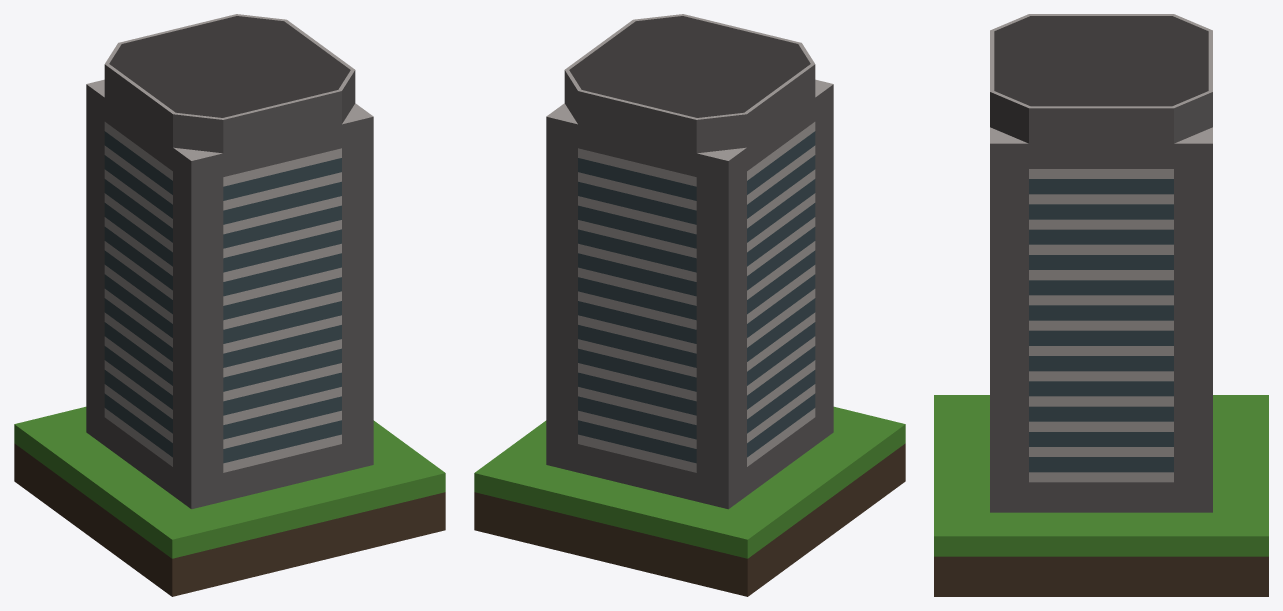
The model's file is tiles_skyscraper-medium.fbx.
3 renders of one model, left to right at view 1: azimuth 30°, elevation 25°; view 2: azimuth 150°, elevation 25°; view 3: azimuth 270°, elevation 25°, orthographic. The views are drawn at different scales.
Visible parts, largest first — view 1: tiles_skyscraper_medium; view 2: tiles_skyscraper_medium; view 3: tiles_skyscraper_medium.
Part boxes in pixels (box(x1,y1,x2,y2)): tiles_skyscraper_medium: box(14, 14, 445, 596); tiles_skyscraper_medium: box(474, 14, 905, 596); tiles_skyscraper_medium: box(934, 14, 1268, 596).
Size of the model in its own units: 130 by 200 by 130.
